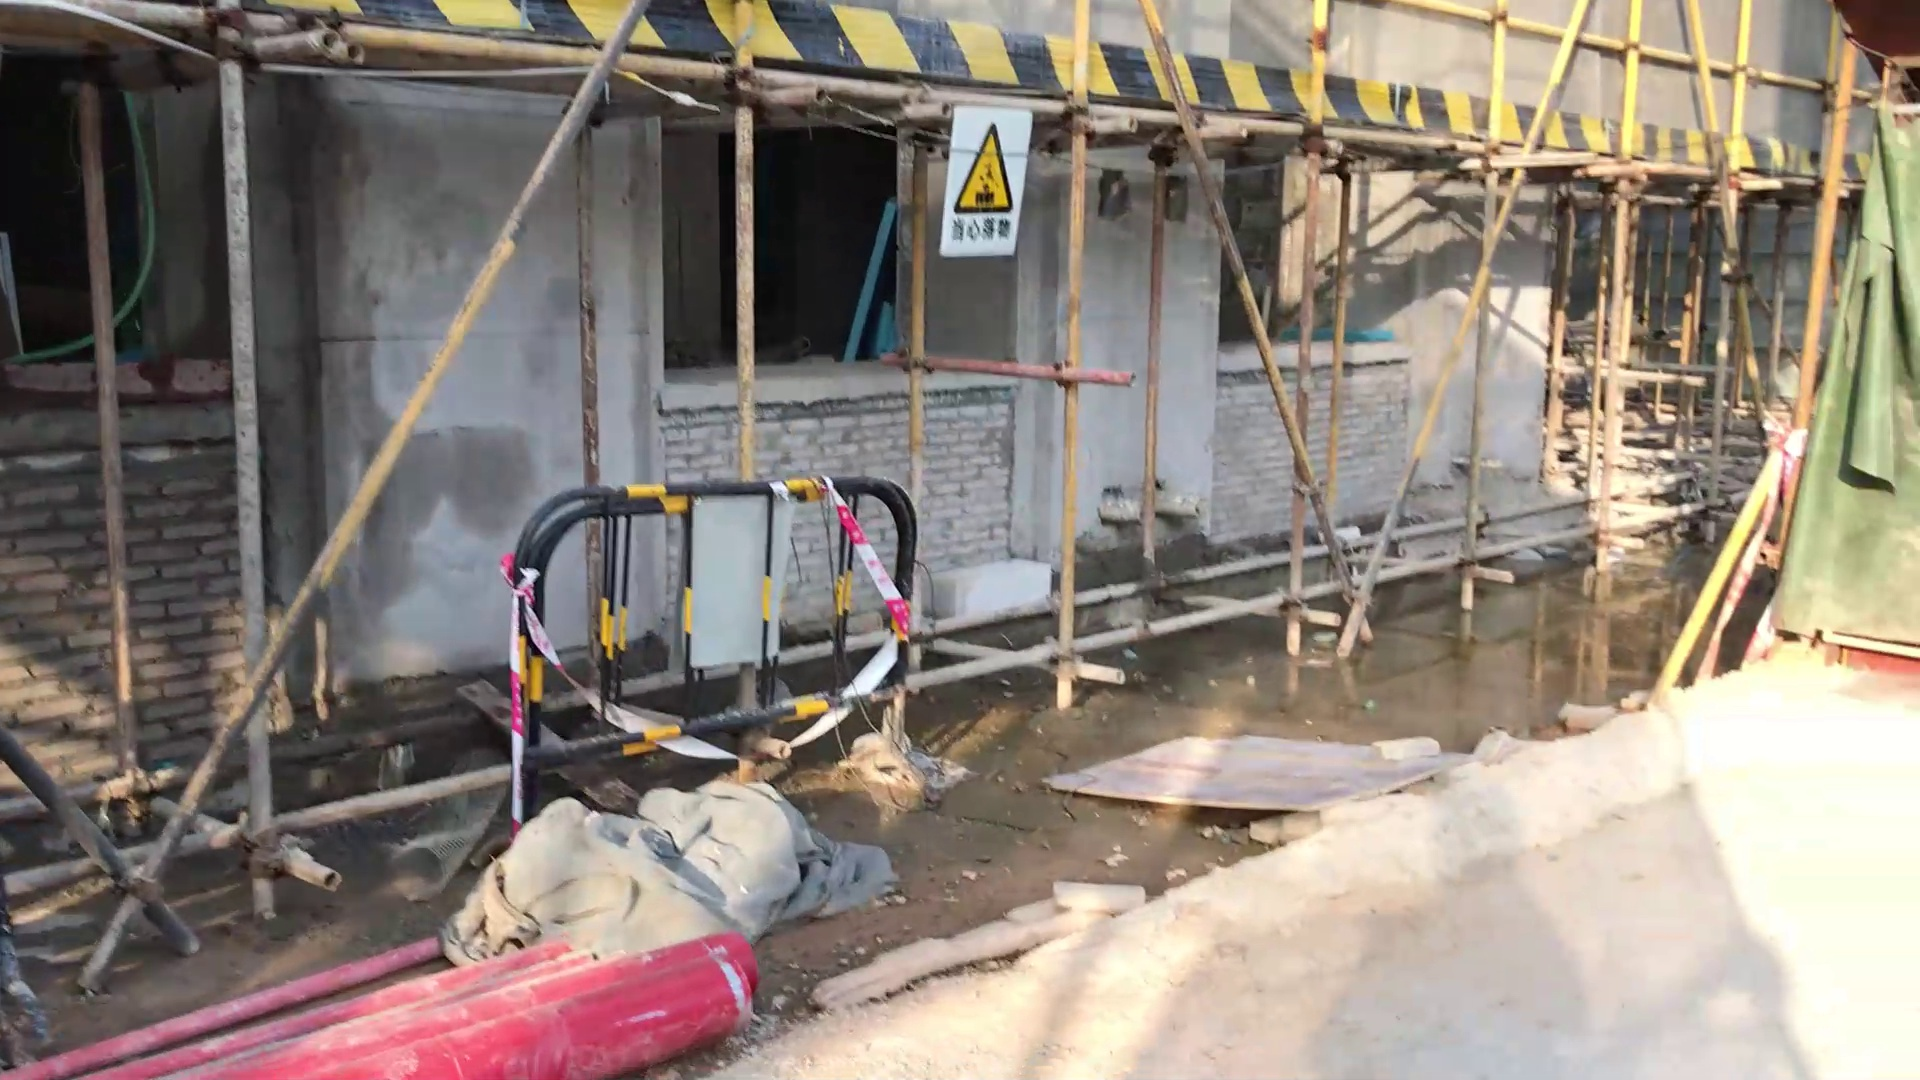fence: (467, 471, 931, 869)
slogan: (942, 107, 1022, 257)
